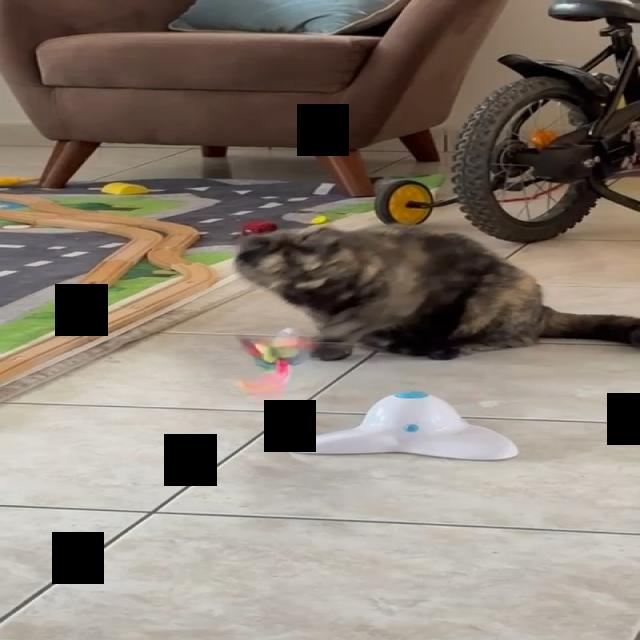authorized: (232, 222, 639, 362)
